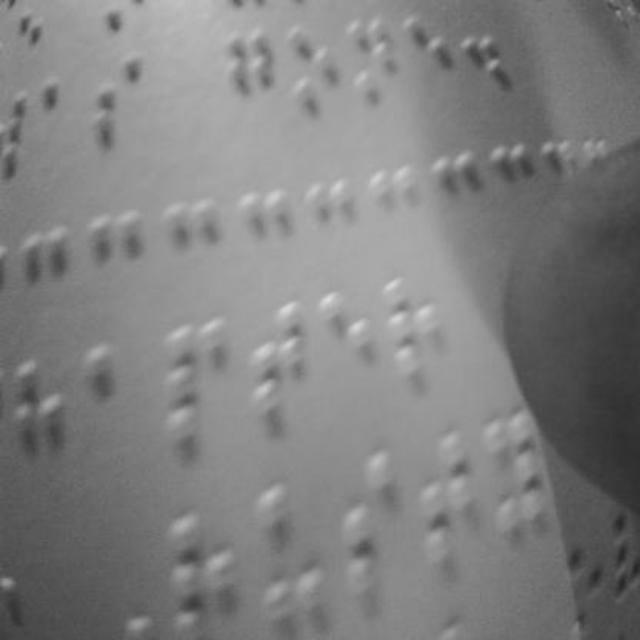braiile: (254, 480, 332, 632), (339, 442, 411, 598), (166, 510, 240, 640), (160, 311, 230, 447), (11, 353, 81, 483), (482, 407, 548, 543), (378, 264, 448, 392), (417, 422, 478, 568), (313, 279, 377, 415), (244, 296, 310, 424), (84, 342, 146, 468), (94, 41, 150, 159), (224, 25, 280, 138), (343, 12, 401, 118), (284, 23, 340, 121), (403, 14, 455, 114), (40, 61, 86, 168)
